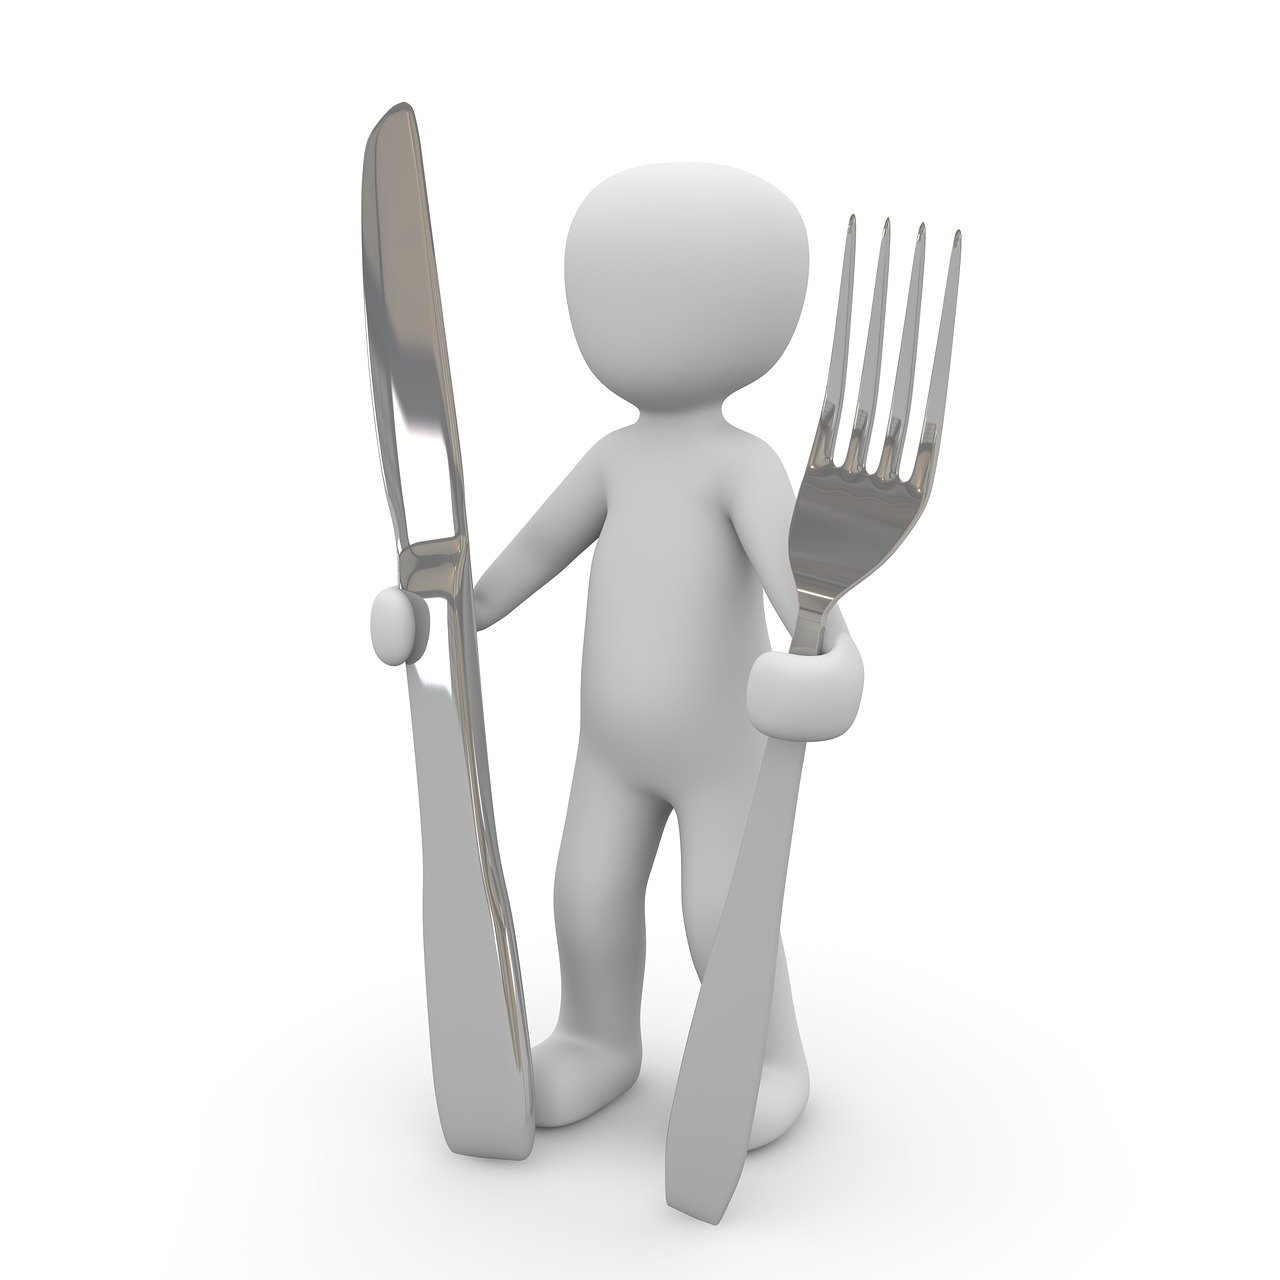knife: (291, 91, 542, 1170)
